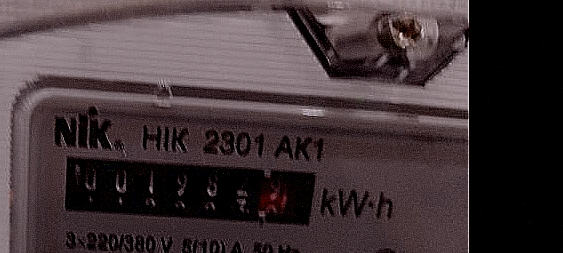0: (112, 165, 129, 194), (82, 162, 98, 191)
1: (144, 165, 156, 194)
2: (234, 168, 252, 197)
8: (204, 169, 220, 197)
9: (265, 174, 285, 202), (173, 168, 188, 197)
screen: (48, 142, 329, 238)
